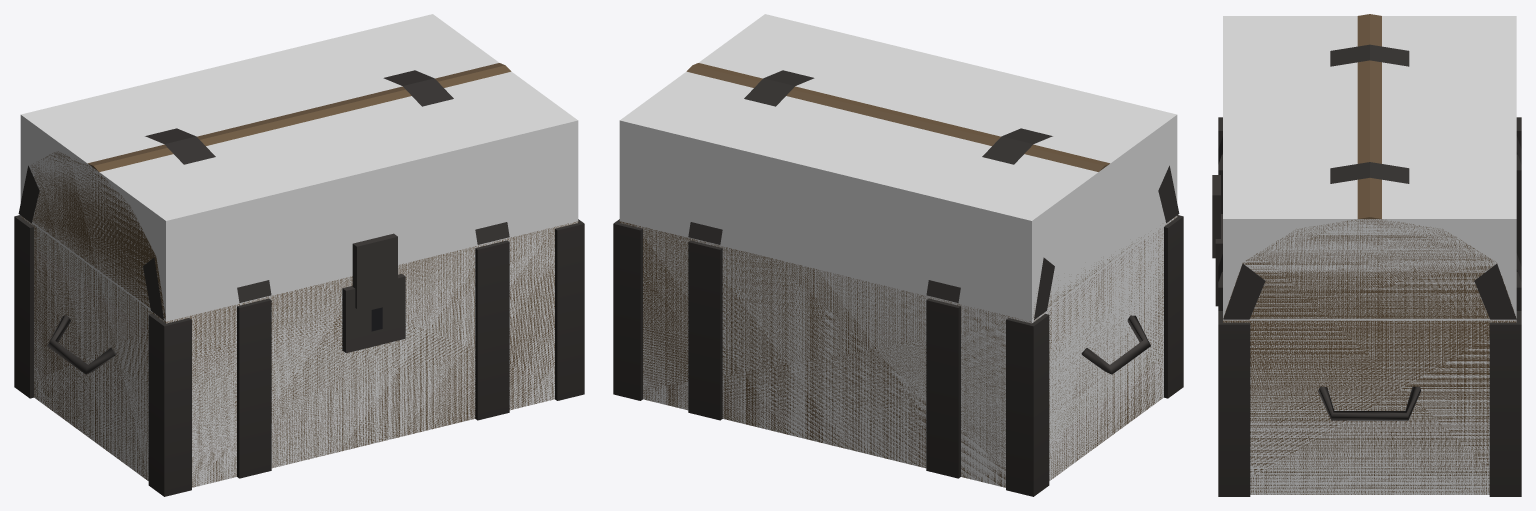
File: chest.glb
The picture shows the model from 3 angles, left to right: view 1: azimuth 30°, elevation 25°; view 2: azimuth 150°, elevation 25°; view 3: azimuth 270°, elevation 25°; orthographic projection.
Visible parts, largest first — view 1: COL_chest, chest, ROT_lid; view 2: COL_chest, chest, ROT_lid; view 3: COL_chest, chest, ROT_lid.
Part boxes in pixels (x1,y1,x2,y2): COL_chest: (20,14,578,487); chest: (14,215,584,496); ROT_lid: (18,63,511,319); COL_chest: (619,14,1177,487); chest: (613,215,1183,496); ROT_lid: (686,63,1179,319); COL_chest: (1223,16,1516,494); chest: (1215,117,1521,496); ROT_lid: (1212,14,1521,319).
Bounding box in the file's own units: 1.02 × 0.583 × 0.579.
